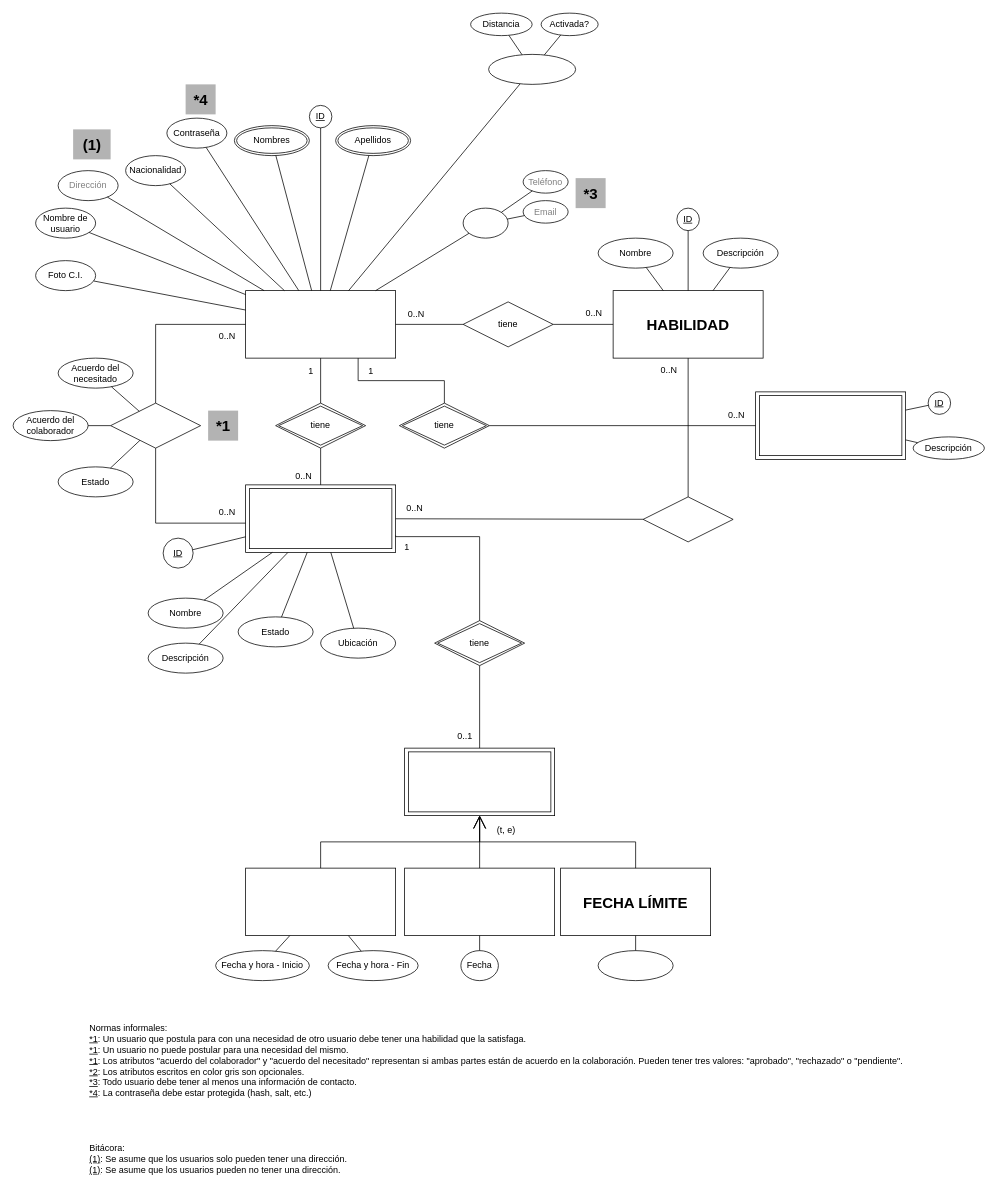
Image size: 998x1196. Some labels were removed from this diagram. The shapes that lost their labels are listed below. From the top down, each one's centre as x and y in pixels, then its label:
the point at 532,69: Geolocalización
the point at 485,222: Contacto
the point at 320,324: USUARIO
the point at 155,425: postula para
the point at 830,425: NOTIFICACIÓN
the point at 320,518: NECESIDAD
the point at 687,519: satisface
the point at 479,781: RESTRICCIÓN DE TIEMPO
the point at 320,901: PERIODO DE TIEMPO
the point at 479,901: FECHA PUNTUAL
the point at 635,965: Fecha y hora
